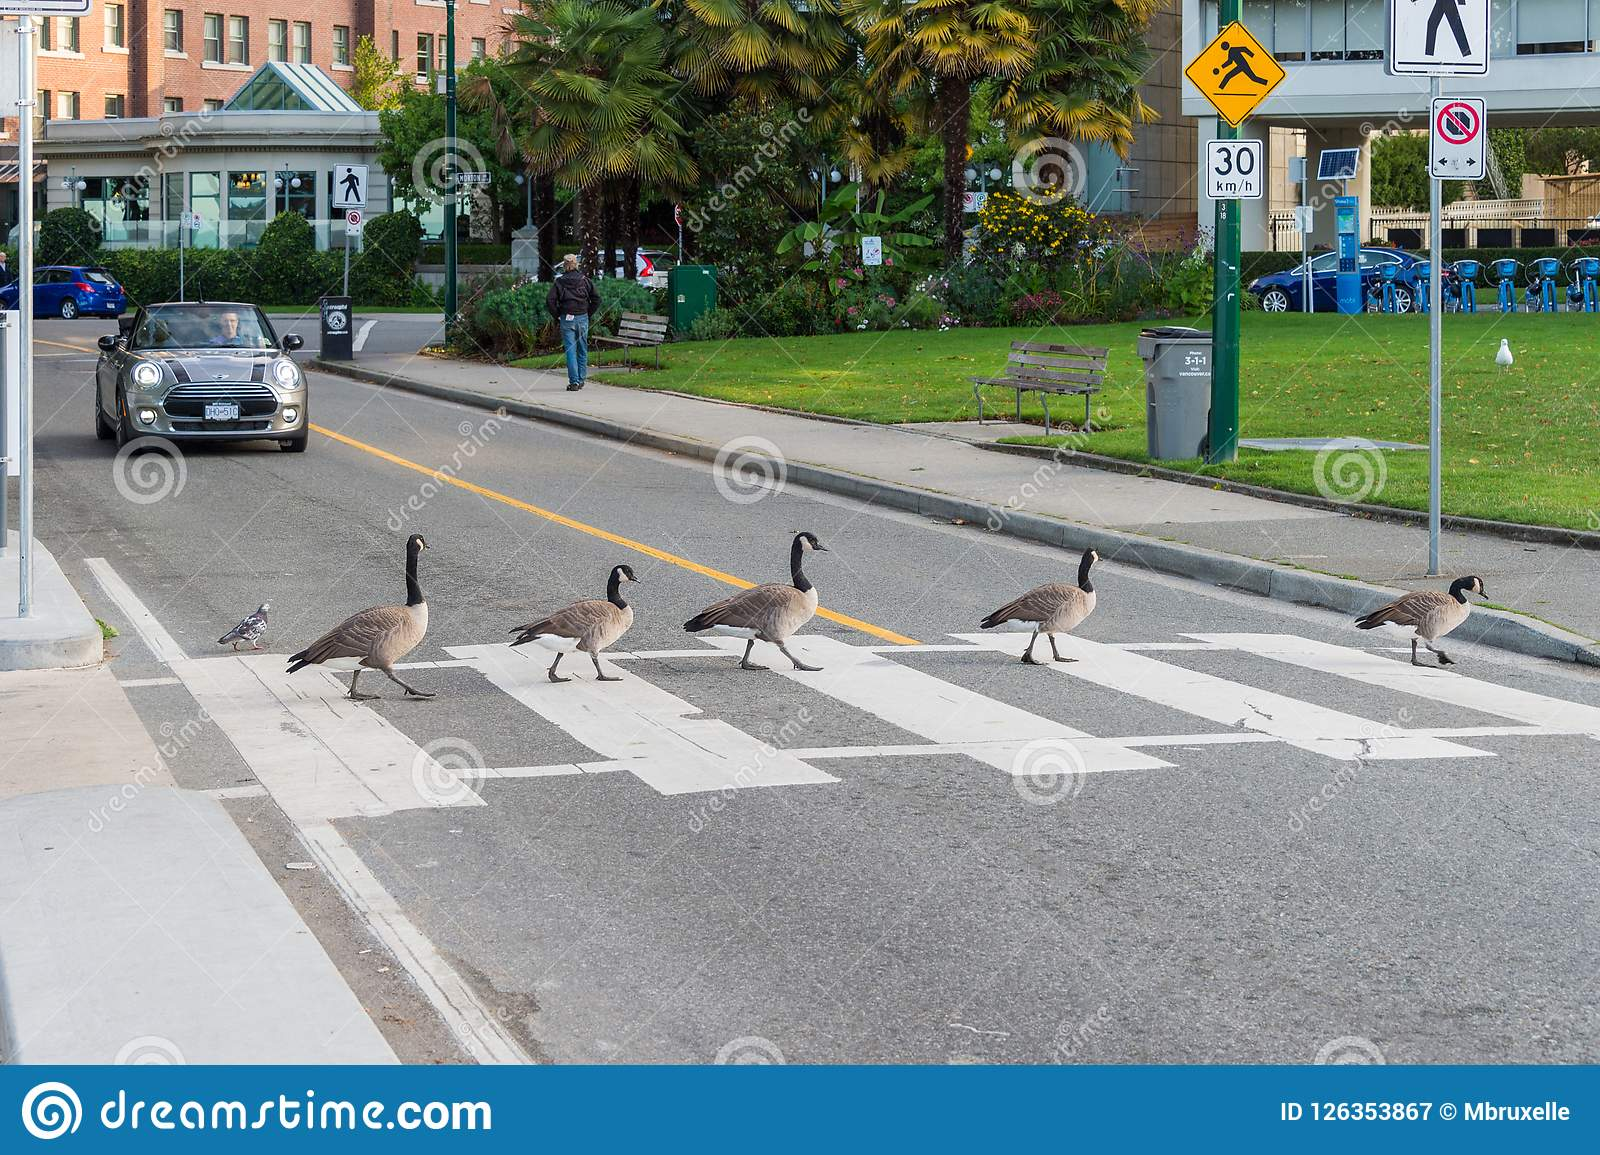goose: (280, 527, 439, 715), (673, 527, 834, 682), (507, 563, 645, 687), (966, 548, 1109, 664), (1345, 573, 1491, 669)
